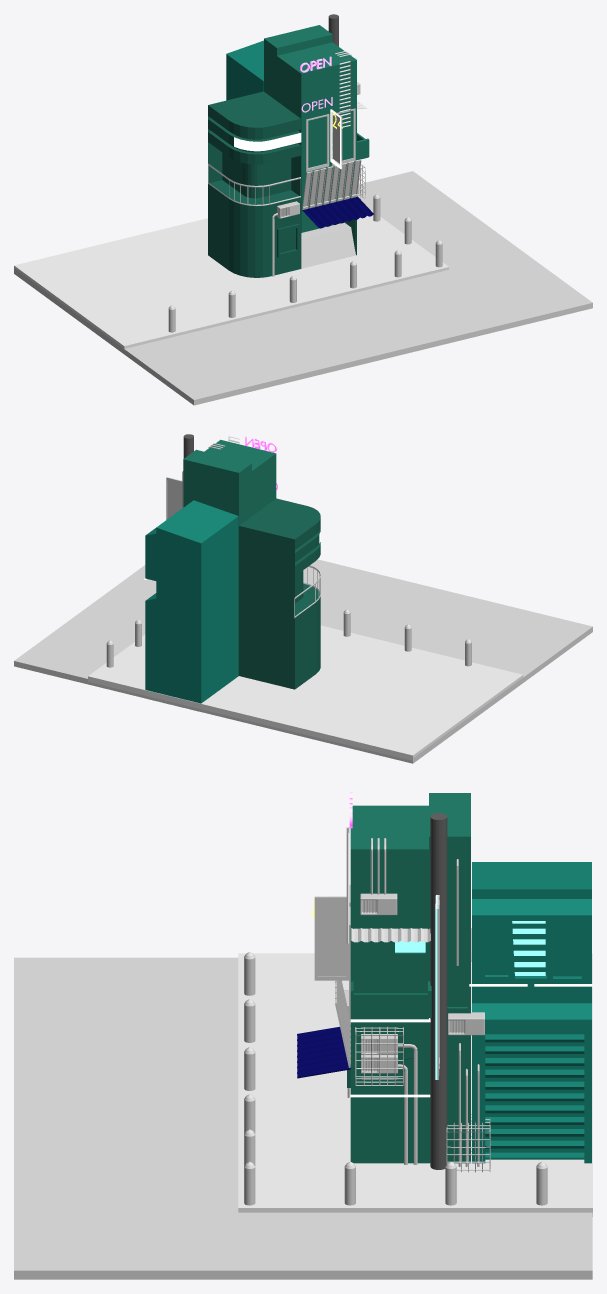
The model's file is CyberCity.glb.
3 views of the same model, one above another, from view 1: azimuth 30°, elevation 25°; view 2: azimuth 150°, elevation 25°; view 3: azimuth 270°, elevation 25° (orthographic). The views are drawn at different scales.
Visible parts, largest first — view 1: Cube, Cube.004, Cube.002, Cube.001, Cube.013, Cube.003, Plane, Cube.034, Cube.014, Plane.011; view 2: Cube, Cube.004, Cube.003, Cube.002, Cube.001, Plane.012; view 3: Cube, Cube.003, Cube.004, Cube.001, Cylinder.038, Plane.011, Plane, Cube.011, Plane.013, Cube.010, Cube.012, Cube.015 (+2 smaller).
Boxes of the visible parts, bbox=[...] form: Cube: bbox=[14, 171, 592, 405]; Cube.004: bbox=[14, 208, 448, 348]; Cube.002: bbox=[208, 91, 300, 277]; Cube.001: bbox=[264, 25, 369, 268]; Cube.013: bbox=[301, 222, 355, 268]; Cube.003: bbox=[226, 40, 263, 100]; Plane: bbox=[302, 196, 373, 228]; Cube.034: bbox=[234, 133, 301, 151]; Cube.014: bbox=[208, 163, 300, 206]; Plane.011: bbox=[331, 109, 342, 168]; Cube: bbox=[14, 559, 592, 763]; Cube.004: bbox=[88, 625, 523, 760]; Cube.003: bbox=[145, 500, 238, 703]; Cube.002: bbox=[239, 498, 320, 689]; Cube.001: bbox=[183, 439, 276, 675]; Plane.012: bbox=[166, 477, 182, 519]; Cube: bbox=[14, 957, 592, 1279]; Cube.003: bbox=[472, 862, 591, 1163]; Cube.004: bbox=[238, 953, 592, 1216]; Cube.001: bbox=[350, 793, 470, 1163]; Cylinder.038: bbox=[430, 813, 447, 1169]; Plane.011: bbox=[314, 896, 348, 980]; Plane: bbox=[297, 1026, 413, 1078]; Cube.011: bbox=[355, 1027, 403, 1085]; Plane.013: bbox=[351, 928, 430, 942]; Cube.010: bbox=[446, 1113, 490, 1172]; Cube.012: bbox=[448, 1012, 484, 1035]; Cube.015: bbox=[360, 893, 397, 915].
Bounding box in the file's own units: 12.32 × 6.68 × 9.63.
